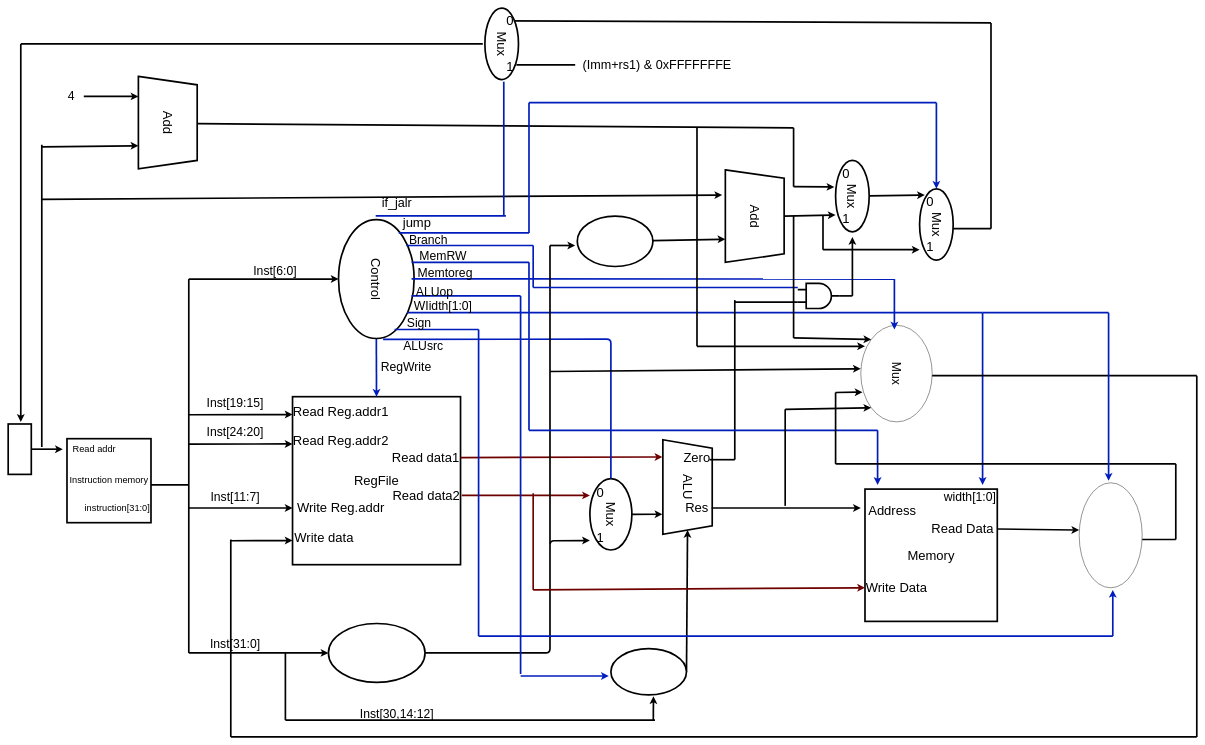
Some shapes in this 1205 by 745 pixel diagram are drawn without their labels. Each missing label, with the centre of its shape:
"ALU_Ctrl" belongs at point (648, 672).
"Imm_Gen" belongs at point (376, 652).
"PC" belongs at point (19, 449).
"Shift left 1" belongs at point (615, 241).
"width_deal" belongs at point (1110, 535).
